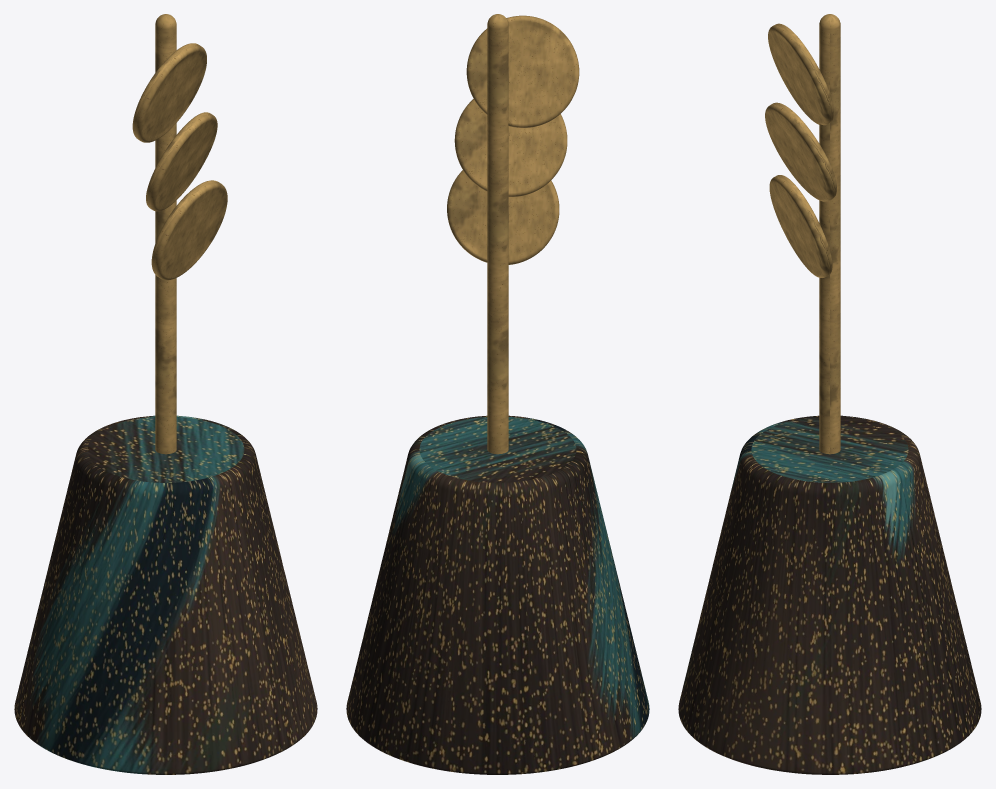
Rendered from queen-black-hd.glb.
3 views of the same model, side by side, from view 1: azimuth 30°, elevation 25°; view 2: azimuth 150°, elevation 25°; view 3: azimuth 270°, elevation 25° (orthographic).
Visible parts, largest first — view 1: Telo, Tyc, Mince_3, Mince_1, Mince_2; view 2: Telo, Tyc, Mince_1, Mince_2, Mince_3; view 3: Telo, Tyc, Mince_2, Mince_1, Mince_3.
Part boxes in pixels (bbox=[...]): Telo: bbox=[14, 415, 317, 774]; Tyc: bbox=[155, 14, 176, 454]; Mince_3: bbox=[151, 180, 227, 280]; Mince_1: bbox=[132, 43, 206, 142]; Mince_2: bbox=[146, 112, 217, 211]; Telo: bbox=[346, 415, 649, 774]; Tyc: bbox=[487, 14, 508, 454]; Mince_1: bbox=[466, 15, 579, 127]; Mince_2: bbox=[454, 99, 567, 196]; Mince_3: bbox=[447, 170, 559, 264]; Telo: bbox=[678, 415, 981, 774]; Tyc: bbox=[819, 14, 840, 454]; Mince_2: bbox=[765, 102, 836, 201]; Mince_1: bbox=[768, 23, 833, 125]; Mince_3: bbox=[769, 175, 832, 277].
Size of the model in its own units: 0.6384 by 1.62 by 0.6384.
3 materials, 3 textured.
